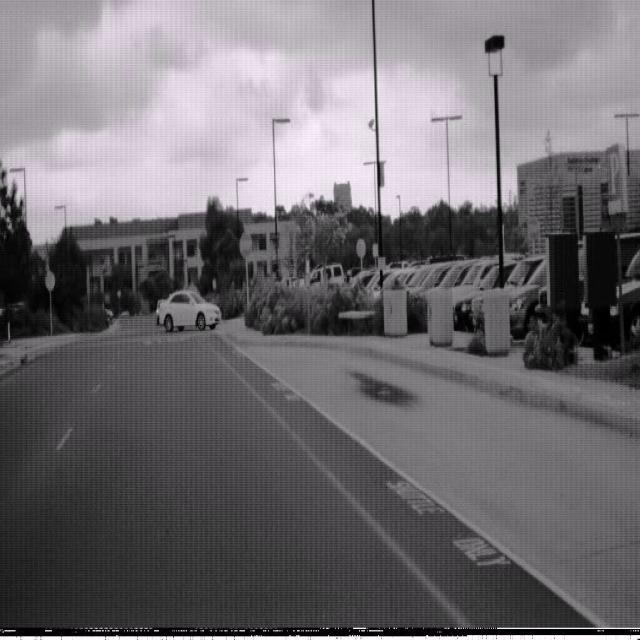stop_sign: (238, 229, 253, 260)
